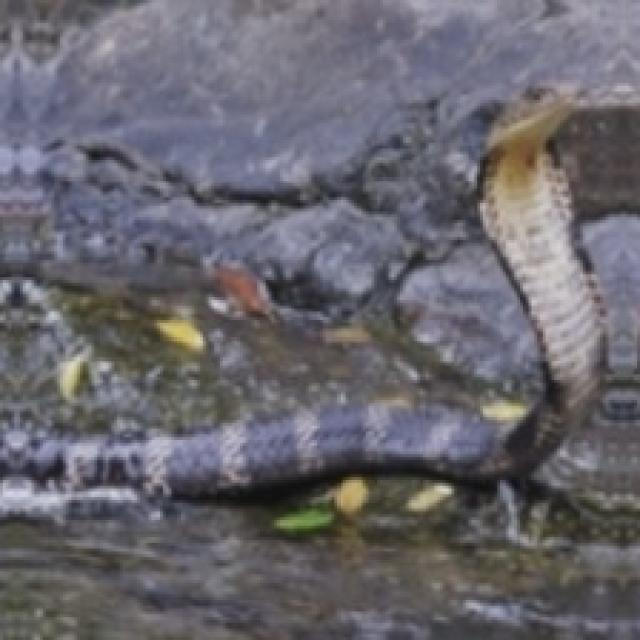king cobra: (0, 91, 637, 514)
